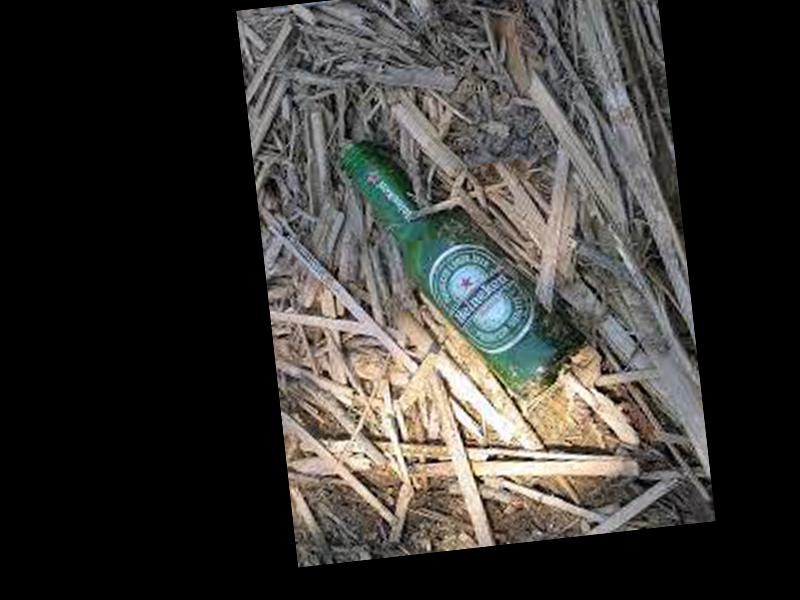Beer: (340, 116, 588, 415)
